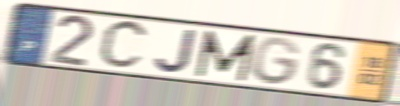2: (48, 14, 94, 68)
6: (306, 42, 348, 91)
C: (96, 18, 152, 73)
G: (250, 35, 303, 88)
J: (153, 28, 199, 75)
M: (194, 29, 259, 83)
